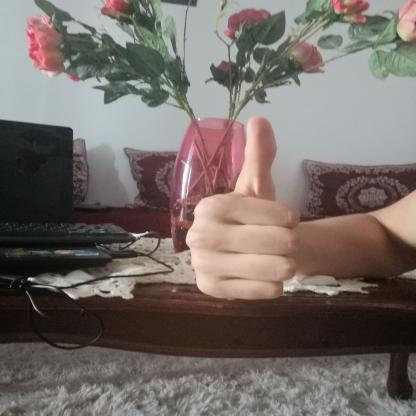ALIF: (174, 105, 316, 306)
